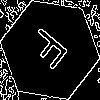F: (25, 25, 77, 78)
